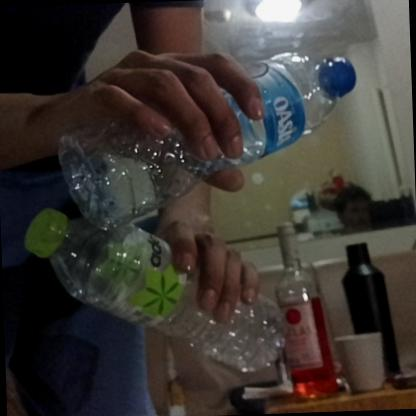plastic_bottles: (56, 51, 366, 233), (20, 198, 293, 380)
